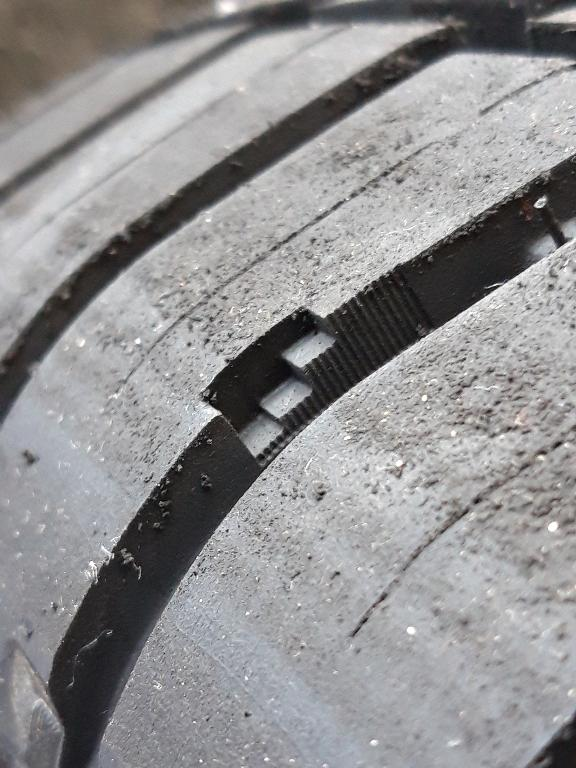temoin:75: (192, 279, 397, 473)
